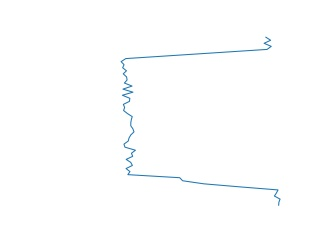distributaryChannelFill: (116, 37, 288, 204)
